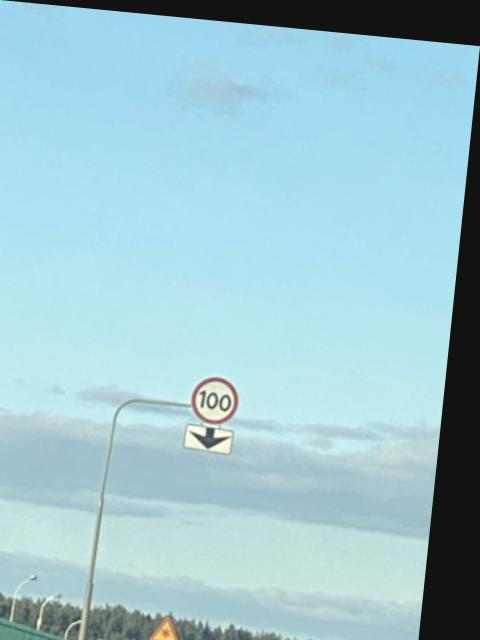limit100: (195, 368, 251, 426)
